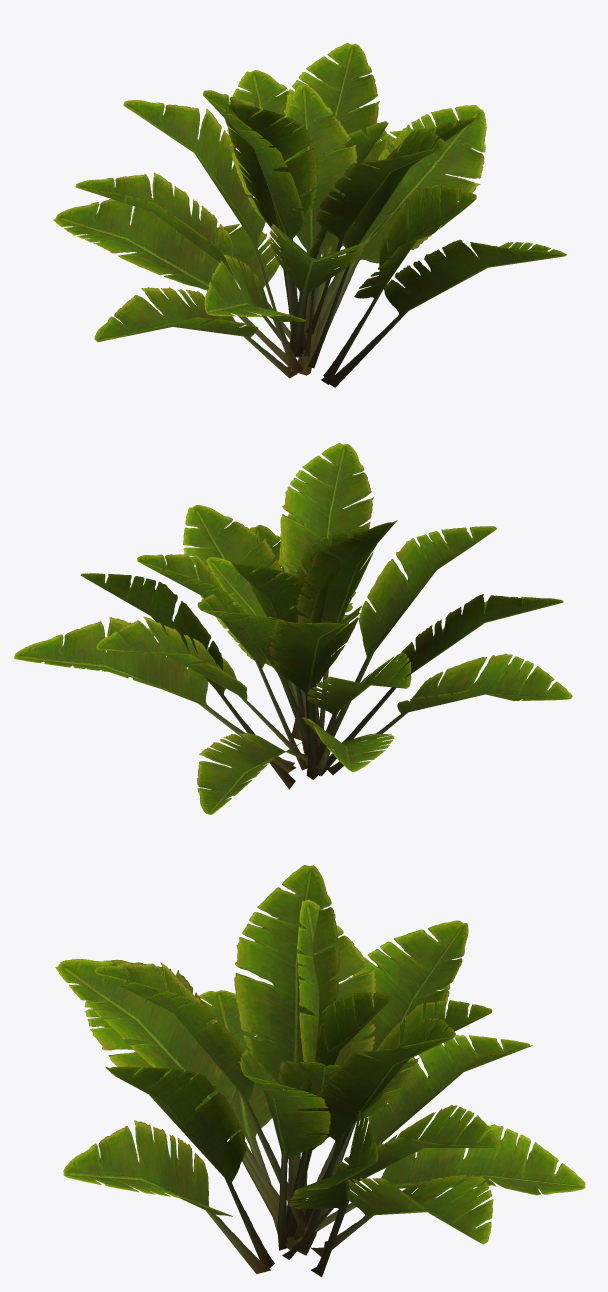
File: environment_grass_guanmu_03_a.FBX
3 renders of one model, top to bottom at view 1: azimuth 30°, elevation 25°; view 2: azimuth 150°, elevation 25°; view 3: azimuth 270°, elevation 25°, orthographic. The views are drawn at different scales.
Parts seen in each view (by area): view 1: environment_grass_guanmu_03_a; view 2: environment_grass_guanmu_03_a; view 3: environment_grass_guanmu_03_a.
Part boxes in pixels (bbox=[...]): environment_grass_guanmu_03_a: bbox=[53, 43, 566, 387]; environment_grass_guanmu_03_a: bbox=[14, 443, 572, 814]; environment_grass_guanmu_03_a: bbox=[55, 865, 585, 1277].
Size of the model in its own units: 166 by 106 by 146.
Materials: 1 (1 with a texture image).
